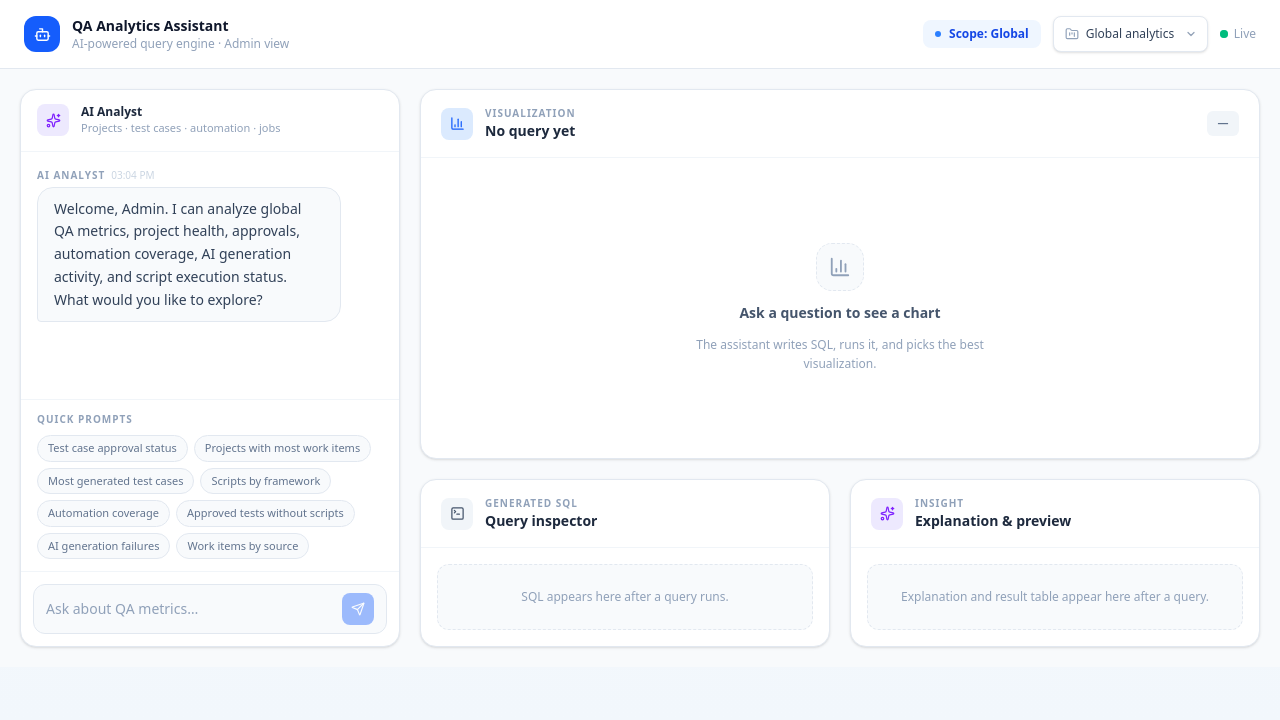
Scenario: AdminAnalyticsAssistantPage › submits a question with the selected project id
Select "Alpha Project" in the dropdown at (1130, 34), box x1=1053 y1=16 x2=1208 y2=52
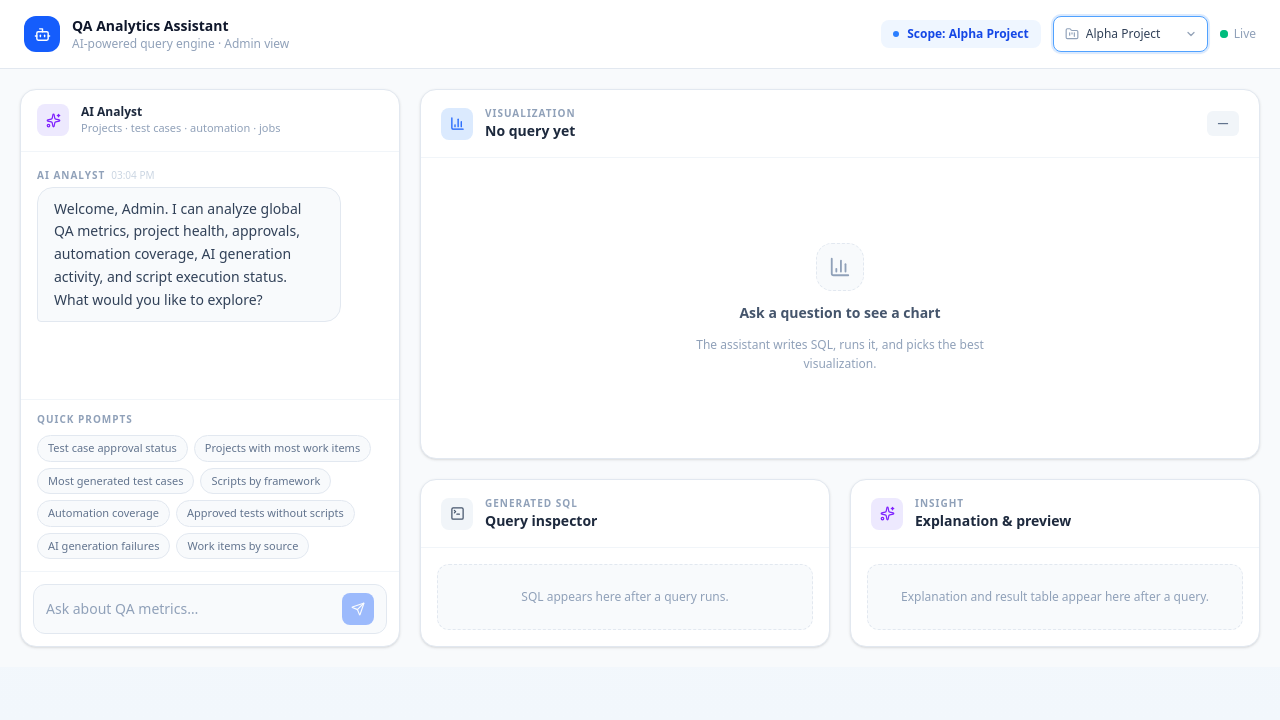
Type "Automation coverage" into the field with placeholder "Ask about QA metrics…" at (190, 609), box x1=46 y1=599 x2=334 y2=619
Then press Enter
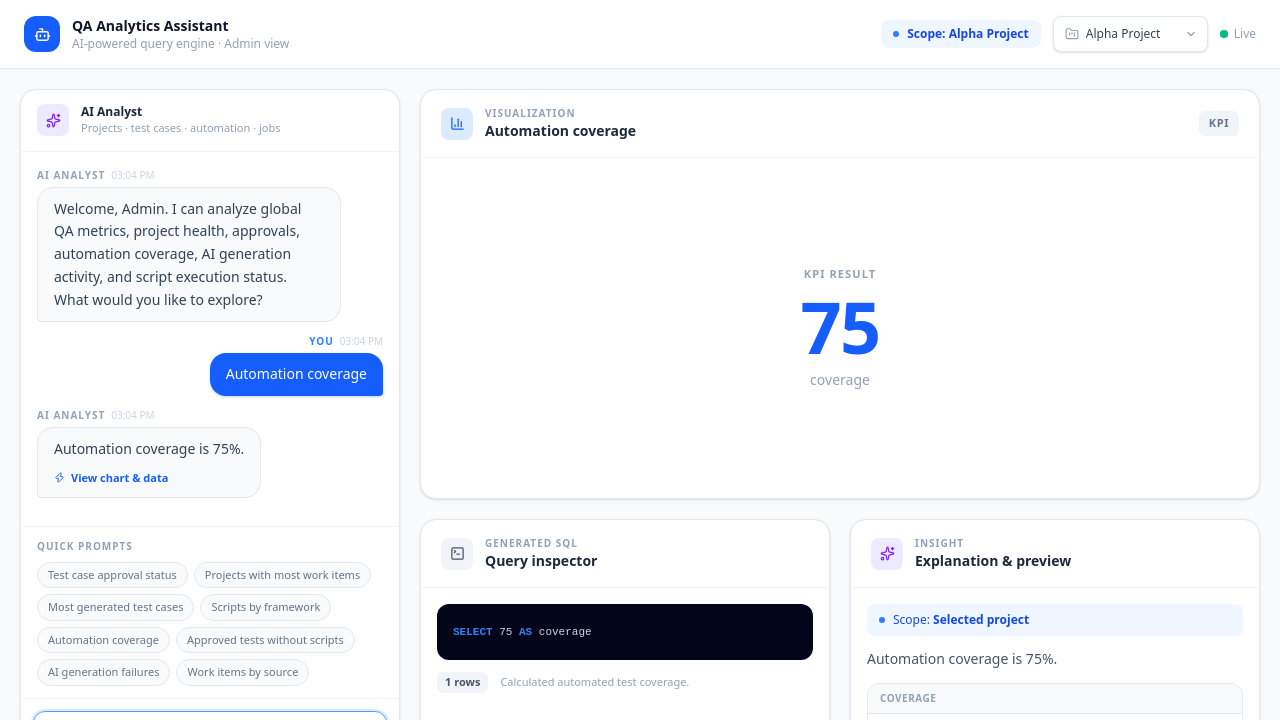
Check: the 1st text "Automation coverage is 75%." is shown, box x1=54 y1=438 x2=244 y2=461
Check: the text "KPI Result" is shown, box x1=801 y1=266 x2=879 y2=282
Check: the text "75" is shown, box x1=801 y1=290 x2=879 y2=362
